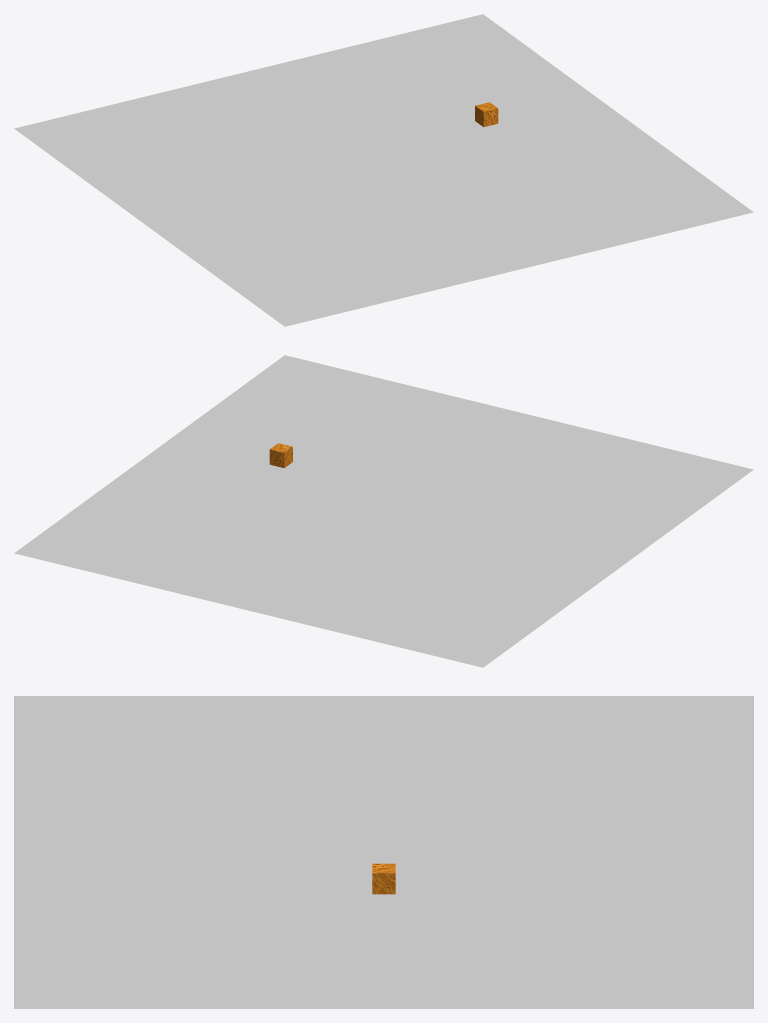
Rendered from CollisionFloor.obj.
3 renders of one model, top to bottom at view 1: azimuth 30°, elevation 25°; view 2: azimuth 150°, elevation 25°; view 3: azimuth 270°, elevation 25°, orthographic. The views are drawn at different scales.
Parts seen in each view (by area): view 1: n0b0; view 2: n0b0; view 3: n0b0.
Boxes of the visible parts, <box> form: n0b0: <box>14,14,753,326</box>; n0b0: <box>14,355,753,667</box>; n0b0: <box>14,696,753,1008</box>.
Size of the model in its own units: 31.98 by 2.5 by 31.98.
